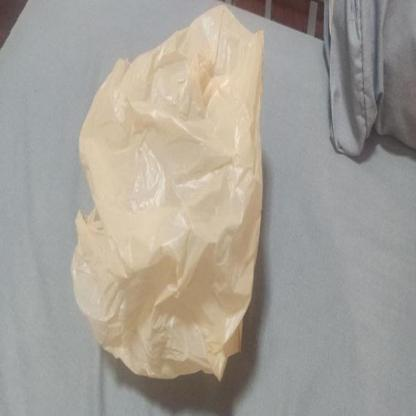Plastic Bag: (70, 4, 264, 384)
